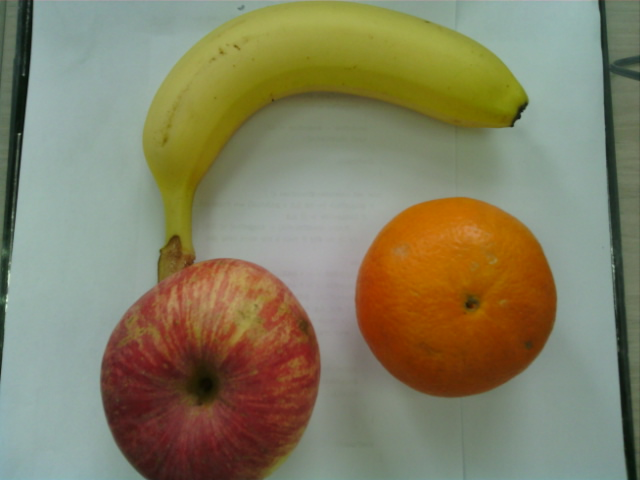normal_apple: (101, 259, 322, 480)
normal_banana: (142, 1, 528, 188)
normal_orange: (355, 197, 559, 401)
